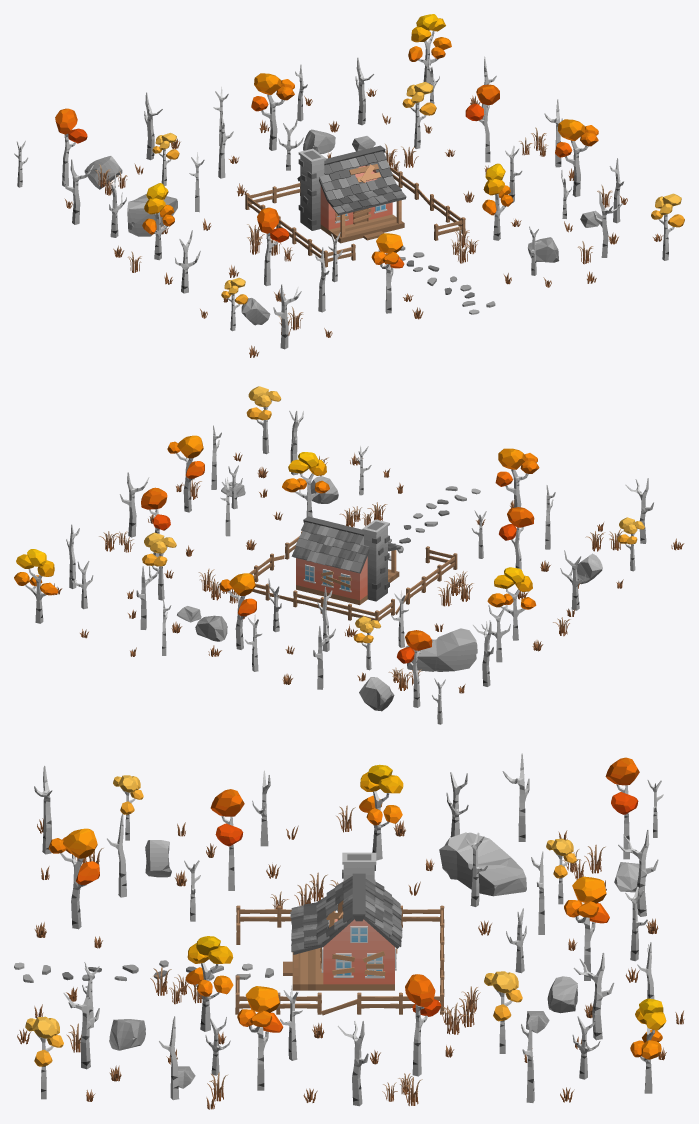
File: abandoned_house.glb
3 renders of one model, top to bottom at view 1: azimuth 30°, elevation 25°; view 2: azimuth 150°, elevation 25°; view 3: azimuth 270°, elevation 25°, orthographic. The views are drawn at different scales.
Parts seen in each view (by area): view 1: abandoned house_63, autumn birch tree 7 (1)_12, autumn birch tree 4_0, autumn birch tree 4 (1)_11, autumn birch tree 7 (2)_20, autumn birch tree 7_21, autumn birch tree 4 (2)_4, autumn birch tree 5_22, autumn birch tree 5 (1)_53, stone small 5_3, autumn birch tree 5 (2)_37, autumn birch tree 6 (1)_27 (+7 smaller); view 2: abandoned house_63, stone small 5_3, autumn birch tree 7 (1)_12, autumn birch tree 7 (2)_20, autumn birch tree 7_21, autumn birch tree 4 (2)_4, autumn birch tree 4_0, autumn birch tree 4 (1)_11, autumn birch tree 5 (1)_53, autumn birch tree 6_58, autumn birch tree 6 (1)_27, autumn birch tree 5_22 (+7 smaller); view 3: abandoned house_63, stone small 5_3, autumn birch tree 7_21, autumn birch tree 7 (2)_20, autumn birch tree 4 (2)_4, autumn birch tree 4_0, autumn birch tree 4 (1)_11, autumn birch tree 7 (1)_12, autumn birch tree 5 (2)_37, autumn birch tree 5_22, autumn birch tree 5 (1)_53, autumn birch tree 6 (1)_27 (+21 smaller).
Boxes of the visible parts, left/top/right/bottom form: abandoned house_63: left=297, top=145, right=406, bottom=243; autumn birch tree 7 (1)_12: left=408, top=14, right=451, bottom=83; autumn birch tree 4_0: left=555, top=119, right=598, bottom=196; autumn birch tree 4 (1)_11: left=251, top=73, right=294, bottom=150; autumn birch tree 7 (2)_20: left=142, top=183, right=174, bottom=260; autumn birch tree 7_21: left=482, top=163, right=513, bottom=240; autumn birch tree 4 (2)_4: left=371, top=233, right=404, bottom=313; autumn birch tree 5_22: left=257, top=207, right=289, bottom=286; autumn birch tree 5 (1)_53: left=55, top=108, right=87, bottom=186; stone small 5_3: left=127, top=193, right=177, bottom=236; autumn birch tree 5 (2)_37: left=465, top=84, right=499, bottom=162; autumn birch tree 6 (1)_27: left=402, top=81, right=436, bottom=148; abandoned house_63: left=291, top=516, right=402, bottom=605; stone small 5_3: left=405, top=628, right=477, bottom=671; autumn birch tree 7 (1)_12: left=14, top=549, right=58, bottom=623; autumn birch tree 7 (2)_20: left=487, top=567, right=536, bottom=640; autumn birch tree 7_21: left=282, top=452, right=329, bottom=517; autumn birch tree 4 (2)_4: left=495, top=448, right=539, bottom=507; autumn birch tree 4_0: left=167, top=435, right=204, bottom=512; autumn birch tree 4 (1)_11: left=219, top=573, right=256, bottom=649; autumn birch tree 5 (1)_53: left=397, top=630, right=432, bottom=707; autumn birch tree 6_58: left=246, top=386, right=281, bottom=454; autumn birch tree 6 (1)_27: left=142, top=532, right=176, bottom=600; autumn birch tree 5_22: left=499, top=507, right=534, bottom=569; abandoned house_63: left=283, top=852, right=402, bottom=990; stone small 5_3: left=439, top=832, right=526, bottom=896; autumn birch tree 7_21: left=185, top=936, right=233, bottom=1031; autumn birch tree 7 (2)_20: left=359, top=764, right=403, bottom=860; autumn birch tree 4 (2)_4: left=48, top=828, right=99, bottom=929; autumn birch tree 4_0: left=237, top=986, right=283, bottom=1090; autumn birch tree 4 (1)_11: left=564, top=876, right=609, bottom=980; autumn birch tree 7 (1)_12: left=630, top=998, right=666, bottom=1093; autumn birch tree 5 (2)_37: left=405, top=974, right=441, bottom=1076; autumn birch tree 5_22: left=210, top=789, right=244, bottom=890; autumn birch tree 5 (1)_53: left=605, top=757, right=639, bottom=859; autumn birch tree 6 (1)_27: left=484, top=971, right=522, bottom=1053.
Bounding box in the file's own units: 15.97 × 3.04 × 15.95.
1 material, 1 textured.
